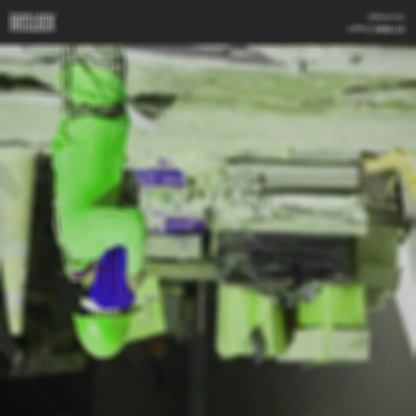yellow: (64, 303, 146, 362)
